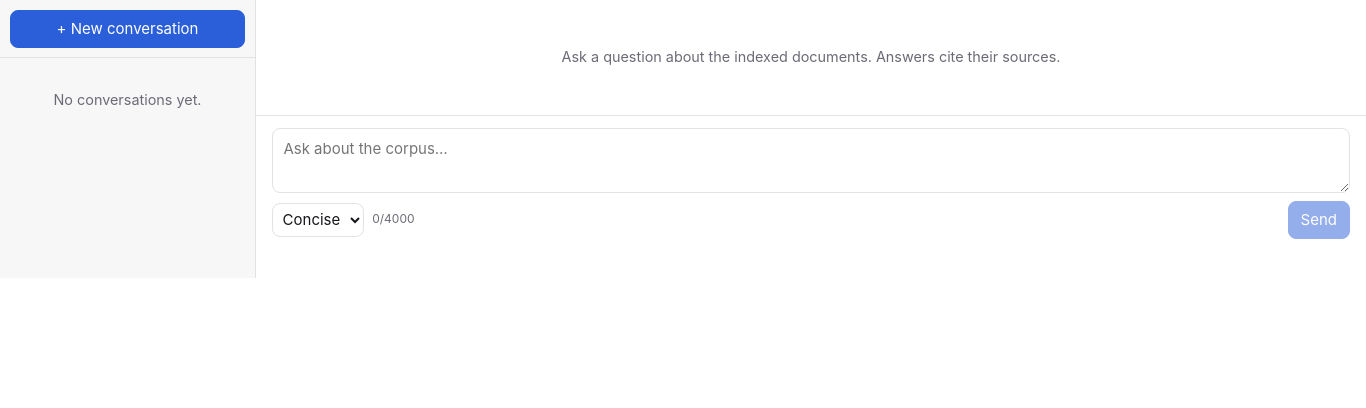
Test: ChatPage › reports a citation warning from the stream
In the text box named "Message": (811, 160) x1=272 y1=128 x2=1350 y2=193, type "refund window"
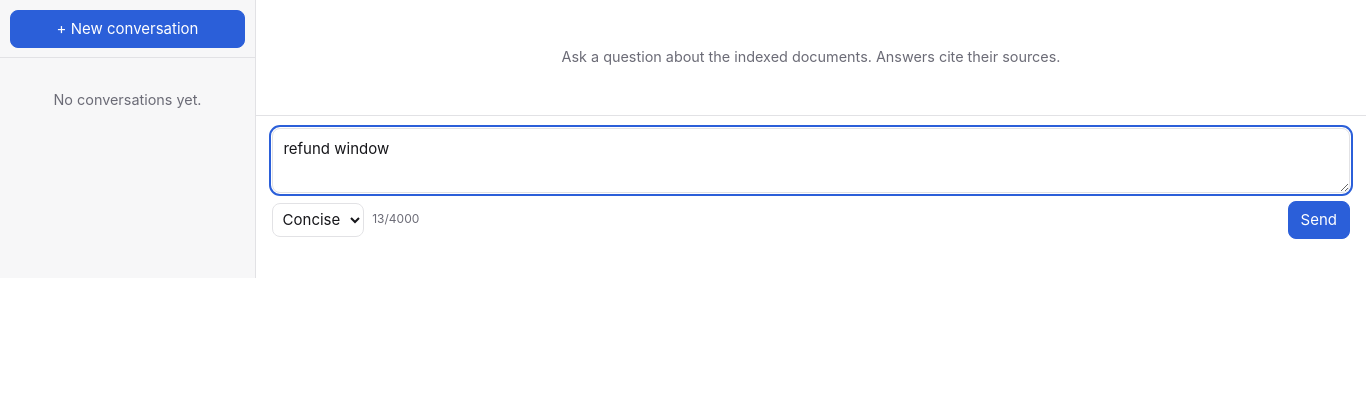
Click the button "Send": (1319, 220) x1=1288 y1=201 x2=1350 y2=239
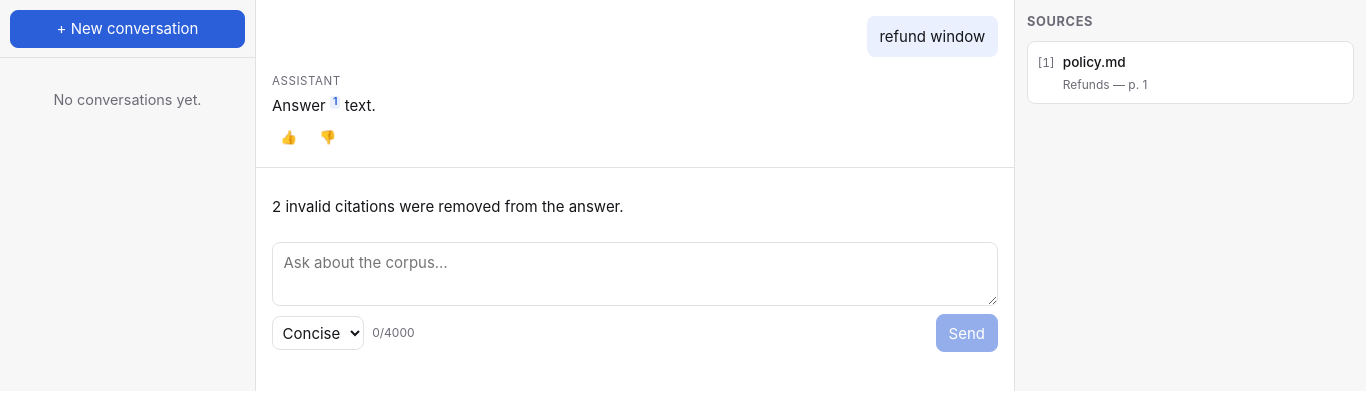
Expected: the text "2 invalid citations were removed from the answer." is shown, x1=272 y1=197 x2=624 y2=216
